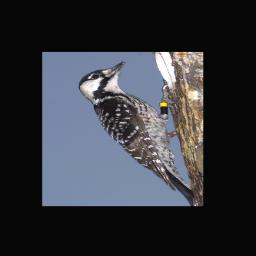Woodpecker: (77, 60, 196, 206)
